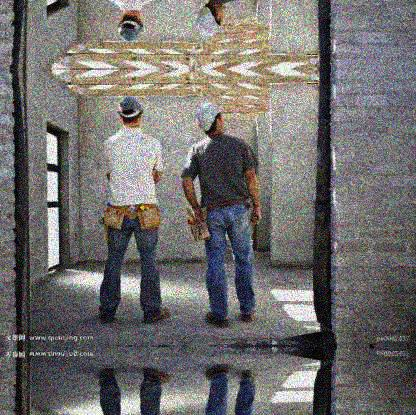helmet: (195, 101, 226, 135), (196, 1, 225, 37), (117, 9, 144, 44), (116, 96, 145, 127)
